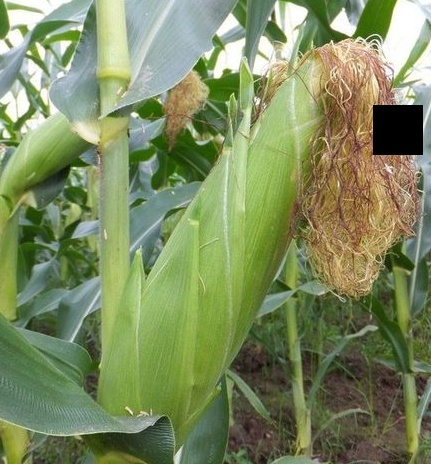corn_plant: (88, 25, 404, 456)
